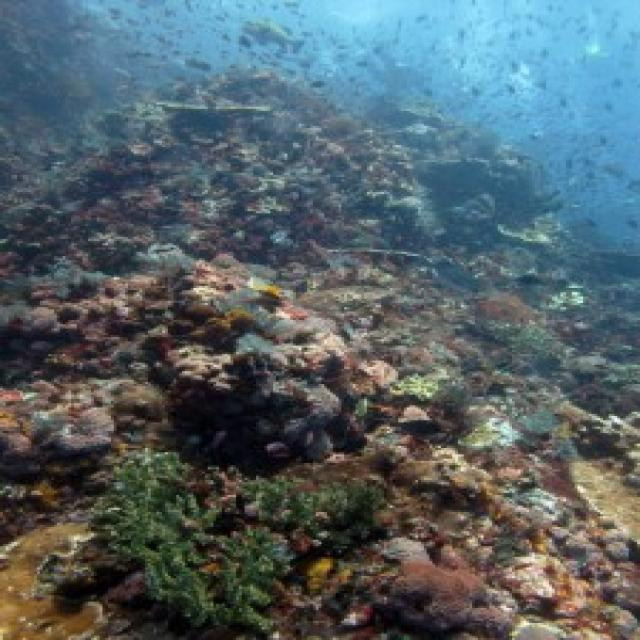Healthy: (1, 223, 638, 639), (101, 451, 382, 635), (146, 287, 365, 468)
